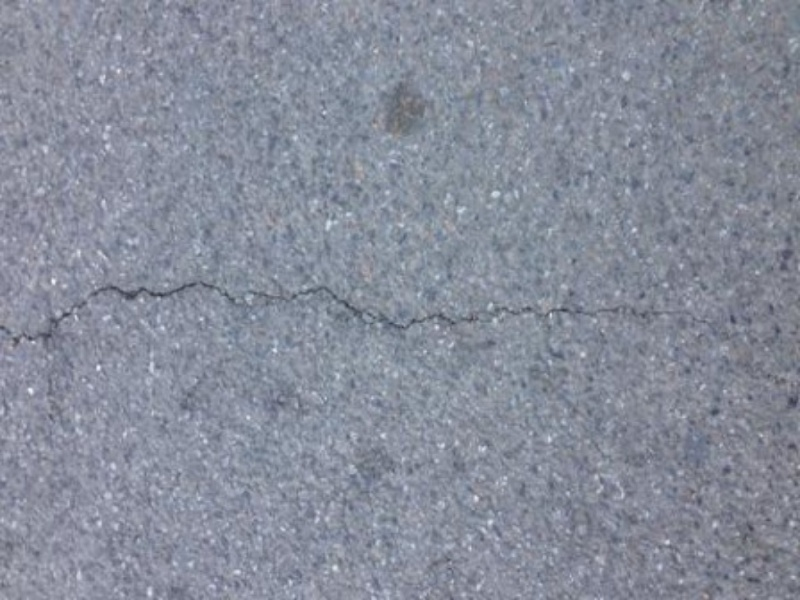crack: (4, 273, 694, 353)
